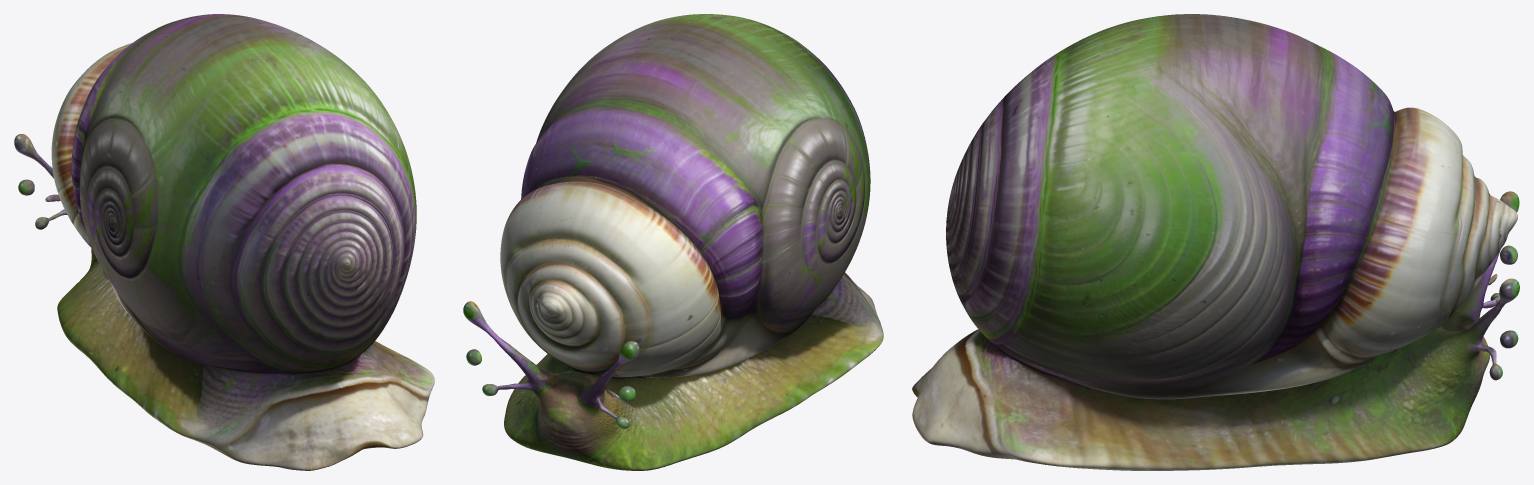
File: turbo_snail.glb
The picture shows the model from 3 angles, left to right: view 1: azimuth 30°, elevation 25°; view 2: azimuth 150°, elevation 25°; view 3: azimuth 270°, elevation 25°; orthographic projection. The views are drawn at different scales.
Size of the model in its own units: 1.18 by 1.41 by 2.
1 material, 1 textured.
